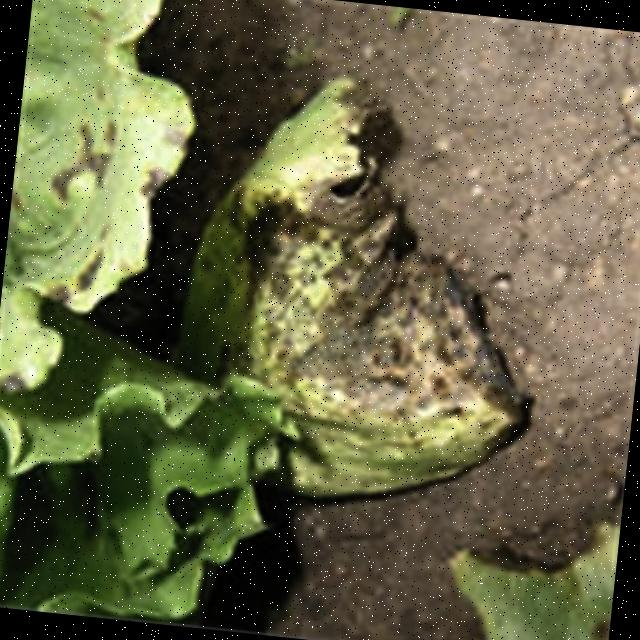Bacterial: (216, 254, 447, 444)
